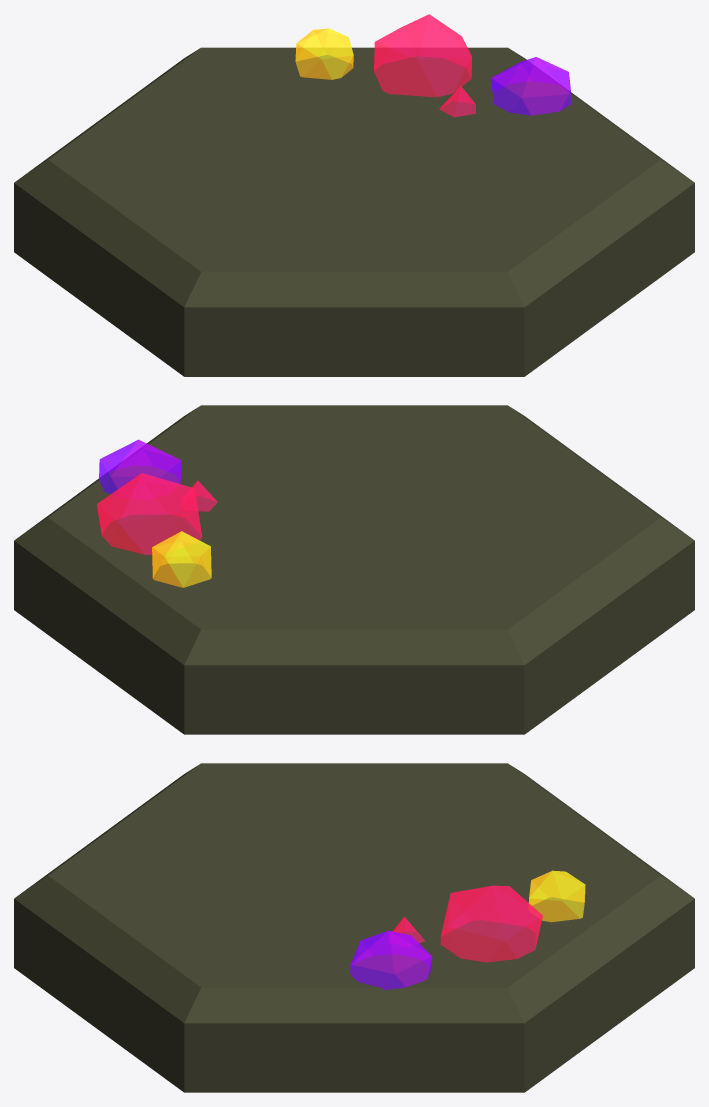
The model's file is GroundUnit(4).fbx.
3 views of the same model, one above another, from view 1: azimuth 30°, elevation 25°; view 2: azimuth 150°, elevation 25°; view 3: azimuth 270°, elevation 25° (orthographic).
Visible parts, largest first — view 1: GroundUnit2; view 2: GroundUnit2; view 3: GroundUnit2.
Part boxes in pixels (left/top/right/bottom): GroundUnit2: left=14, top=14, right=694, bottom=376; GroundUnit2: left=14, top=405, right=694, bottom=734; GroundUnit2: left=14, top=763, right=694, bottom=1092.
Bounding box in the file's own units: 1.73 × 2 × 0.4943.
